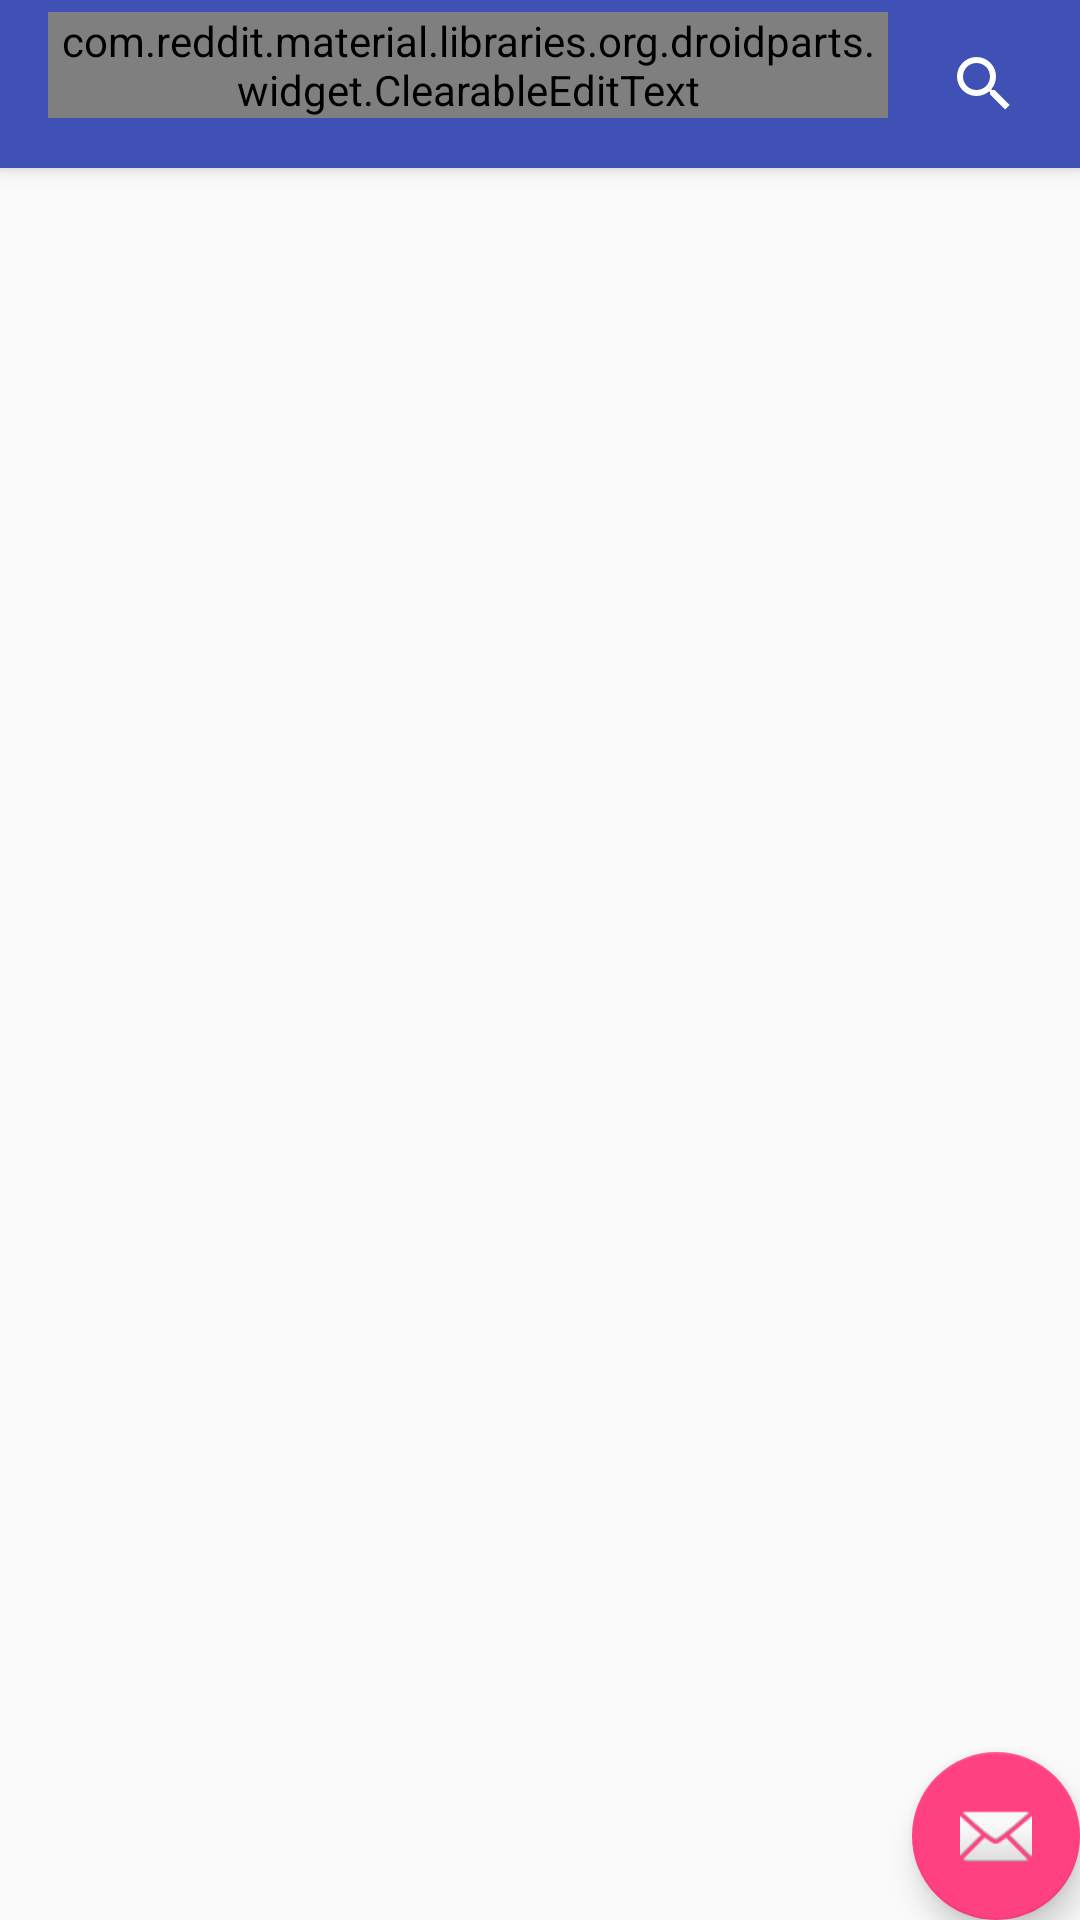

Icons on this 1080 x 1920 Android screen, each with the point to tap as (x,y):
email: (996,1836)
magnify: (983,83)
